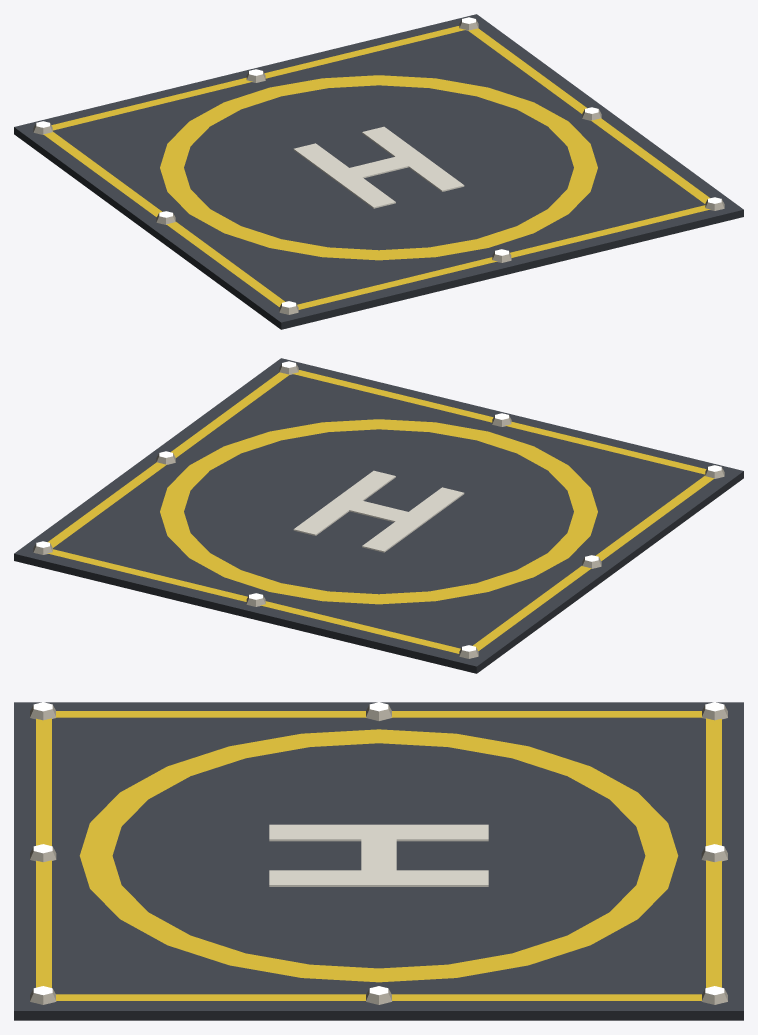
The model's file is helipad_pad.glb.
3 renders of one model, top to bottom at view 1: azimuth 30°, elevation 25°; view 2: azimuth 150°, elevation 25°; view 3: azimuth 270°, elevation 25°, orthographic. The views are drawn at different scales.
Visible parts, largest first — view 1: Body; view 2: Body; view 3: Body.
Boxes of the visible parts, box(x1,y1,x2,y2) form: Body: box(14, 14, 743, 329); Body: box(14, 358, 743, 673); Body: box(14, 702, 743, 1020).
Bounding box in the file's own units: 10 × 0.27 × 10.
